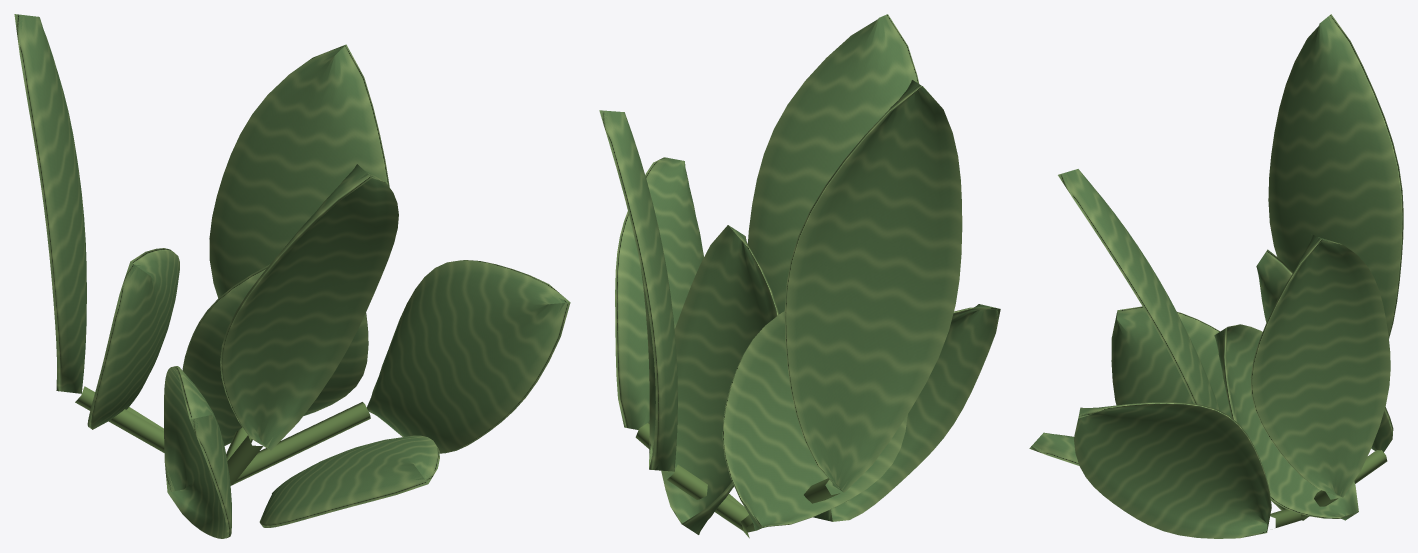
File: sansevieria-stage-3.glb
3 views of the same model, side by side, from view 1: azimuth 30°, elevation 25°; view 2: azimuth 150°, elevation 25°; view 3: azimuth 270°, elevation 25° (orthographic). The views are drawn at different scales.
Parts seen in each view (by area): view 1: Leaf_7, Leaf_3, Leaf_6, Leaf_5, Leaf_0, Leaf_4, Leaf_2, Leaf_1, PlantBranches; view 2: Leaf_5, Leaf_7, Leaf_1, Leaf_4, Leaf_3, Leaf_6, Leaf_2, PlantBranches; view 3: Leaf_6, Leaf_5, Leaf_3, Leaf_2, Leaf_7, Leaf_1, Leaf_4, PlantBranches, Leaf_0.
Part boxes in pixels (x1,y1,x2,y2): Leaf_7: [220, 164, 398, 450]; Leaf_3: [366, 260, 570, 453]; Leaf_6: [209, 44, 389, 298]; Leaf_5: [14, 14, 86, 393]; Leaf_0: [259, 435, 439, 527]; Leaf_4: [87, 248, 179, 429]; Leaf_2: [164, 366, 231, 538]; Leaf_1: [182, 264, 368, 445]; PlantBranches: [75, 386, 370, 485]; Leaf_5: [784, 80, 962, 492]; Leaf_7: [748, 14, 919, 313]; Leaf_1: [661, 225, 779, 534]; Leaf_4: [722, 311, 907, 530]; Leaf_3: [615, 157, 703, 429]; Leaf_6: [599, 110, 677, 471]; Leaf_2: [813, 304, 1000, 521]; PlantBranches: [635, 423, 839, 538]; Leaf_6: [1250, 234, 1390, 497]; Leaf_5: [1268, 14, 1403, 338]; Leaf_3: [1074, 402, 1271, 538]; Leaf_2: [1111, 306, 1231, 417]; Leaf_7: [1058, 169, 1220, 410]; Leaf_1: [1214, 324, 1358, 520]; Leaf_4: [1256, 249, 1393, 452]; PlantBranches: [1270, 450, 1387, 527]; Leaf_0: [1029, 432, 1079, 465].
Size of the model in its own units: 1.21 by 1.41 by 1.11.
2 materials, 1 textured.
